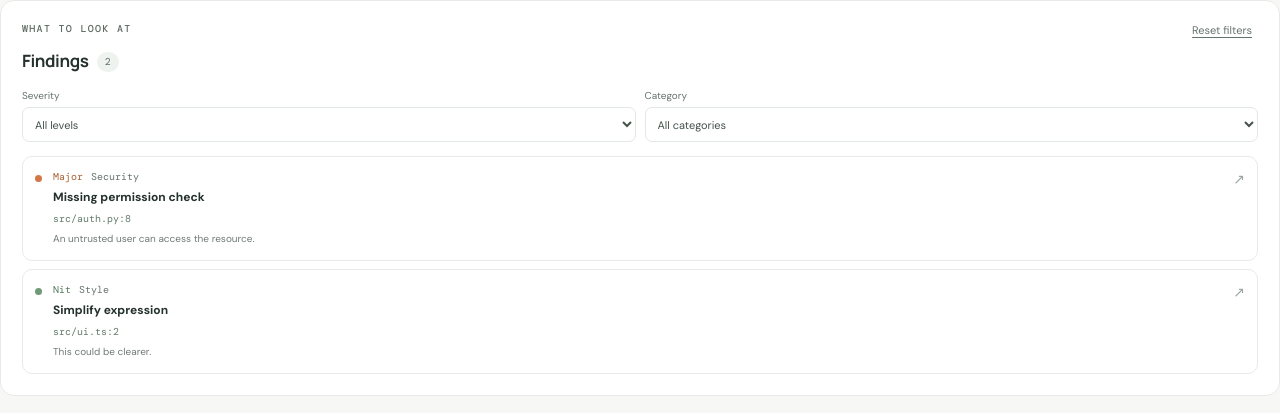
Test: filters findings by severity and clears the filter
This screenshot has width=1280, height=413.
Step 1. Select "major" in the dropdown named "Filter by severity" → (329, 124), box x1=22 y1=107 x2=636 y2=142
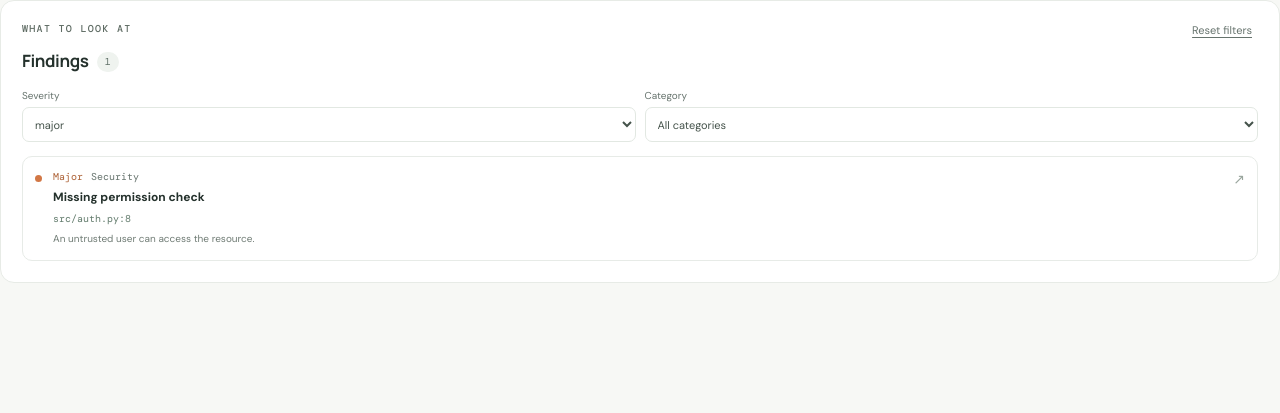
Expected: the text "Missing permission check" is shown, x1=53 y1=189 x2=205 y2=205
Now the button "Simplify expression" is gone
Step 2. Click the button "Reset filters" → (1222, 30), box x1=1186 y1=22 x2=1258 y2=38
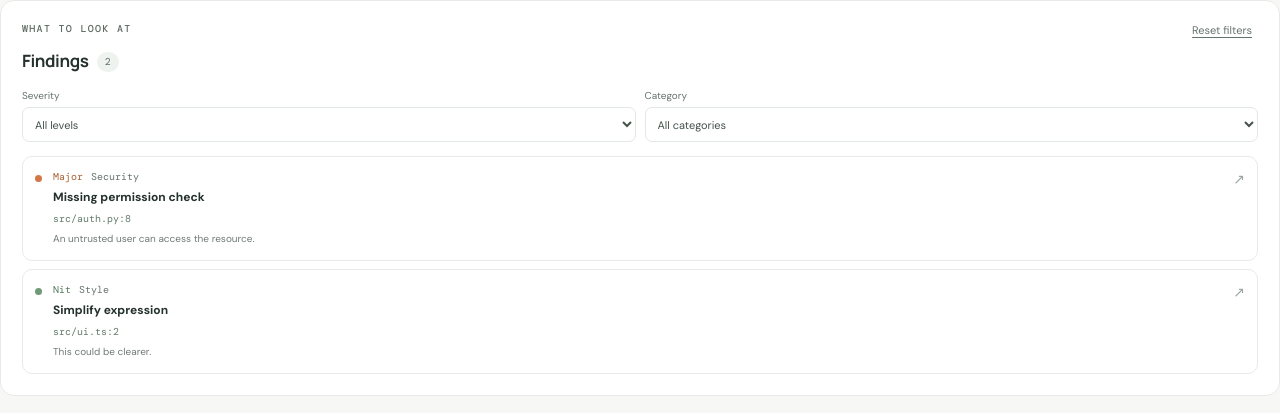
Now the text "Simplify expression" is shown, box x1=53 y1=302 x2=168 y2=318
